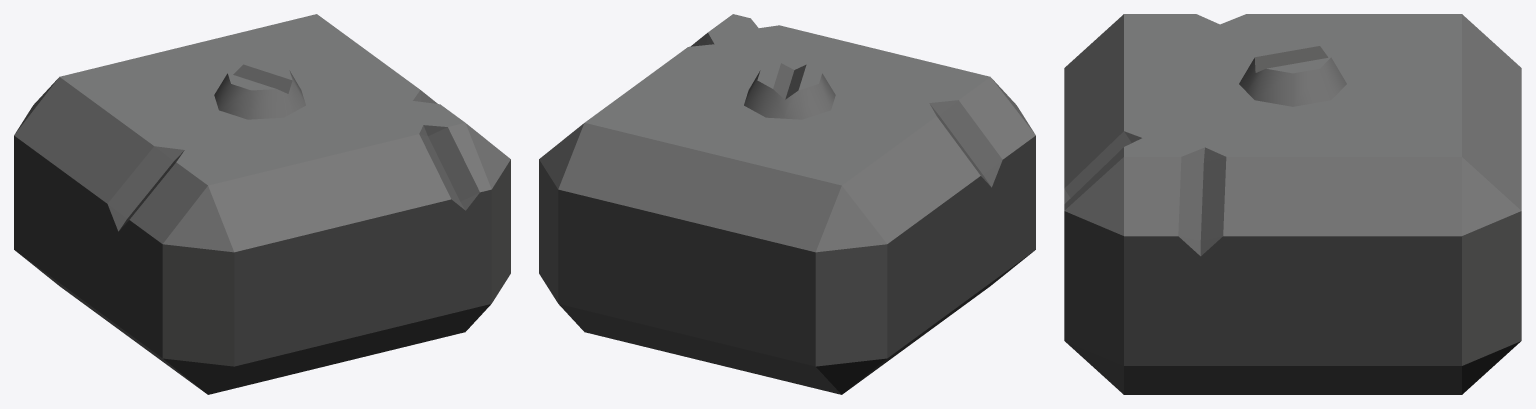
File: m_kub_metalOld_floorBrickMini.FBX
3 views of the same model, side by side, from view 1: azimuth 30°, elevation 25°; view 2: azimuth 150°, elevation 25°; view 3: azimuth 270°, elevation 25° (orthographic). The views are drawn at different scales.
Parts seen in each view (by area): view 1: m_kub_metalOld_floorBrickMini; view 2: m_kub_metalOld_floorBrickMini; view 3: m_kub_metalOld_floorBrickMini.
Part boxes in pixels (bbox=[...]): m_kub_metalOld_floorBrickMini: bbox=[14, 14, 510, 394]; m_kub_metalOld_floorBrickMini: bbox=[539, 14, 1035, 394]; m_kub_metalOld_floorBrickMini: bbox=[1064, 14, 1521, 394].
Bounding box in the file's own units: 1.18 × 0.7512 × 1.18.
